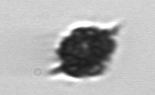plankton: (42, 18, 127, 84)
